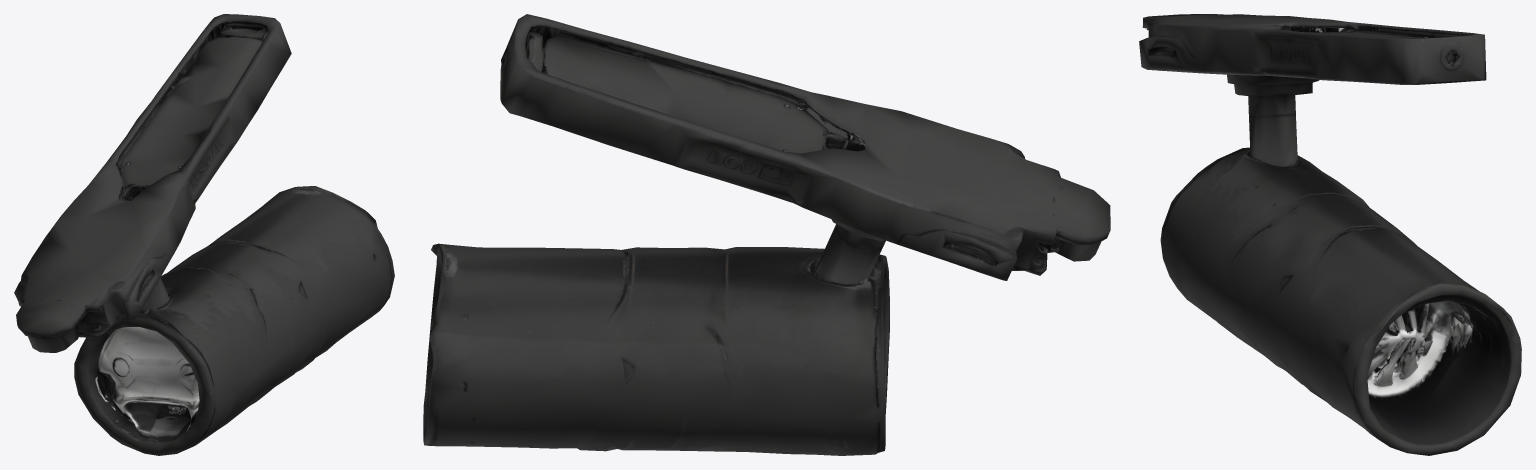
The model's file is luminaria12.obj.
The picture shows the model from 3 angles, left to right: view 1: azimuth 30°, elevation 25°; view 2: azimuth 150°, elevation 25°; view 3: azimuth 270°, elevation 25°; orthographic projection. The views are drawn at different scales.
Parts seen in each view (by area): view 1: luminaria12; view 2: luminaria12; view 3: luminaria12.
Part boxes in pixels (x1,y1,x2,y2): luminaria12: [14, 14, 394, 455]; luminaria12: [423, 14, 1110, 455]; luminaria12: [1139, 14, 1521, 455].
Bounding box in the file's own units: 2.28 × 1.63 × 1.46.
1 material, 1 textured.
